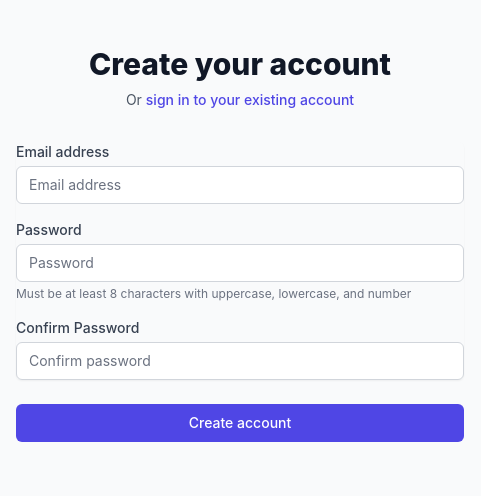
Scenario: Signup Component › should show error for password missing lowercase
Type "PASSWORD123" into the password field labelled "Password" at (240, 263), box x1=16 y1=244 x2=464 y2=282
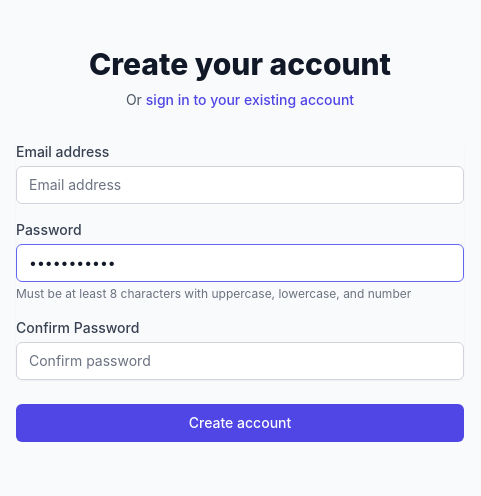
Type "PASSWORD123" into the password field labelled "Confirm Password" at (240, 361), box x1=16 y1=342 x2=464 y2=380
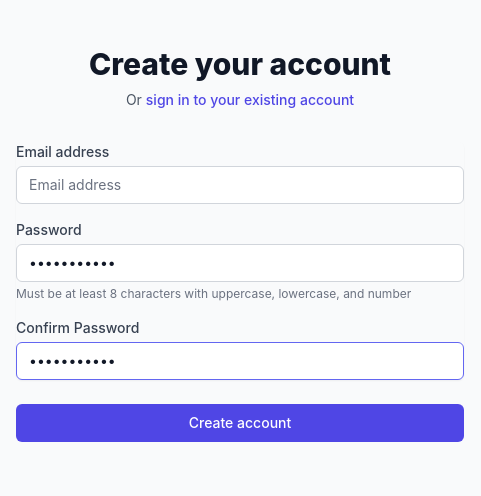
Submit the form named "create account", box x1=16 y1=142 x2=464 y2=442
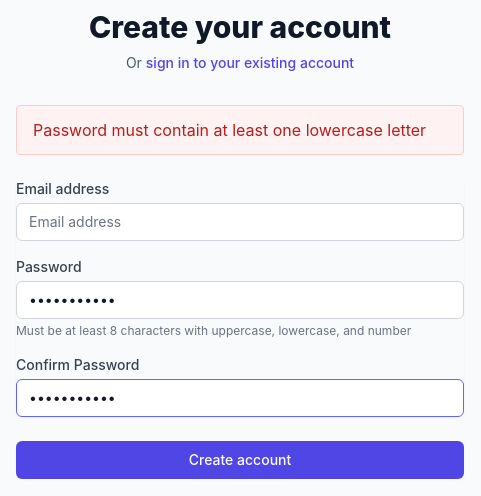
Expected: the message reads "Password must contain at least one lowercase letter", x1=33 y1=120 x2=426 y2=140
